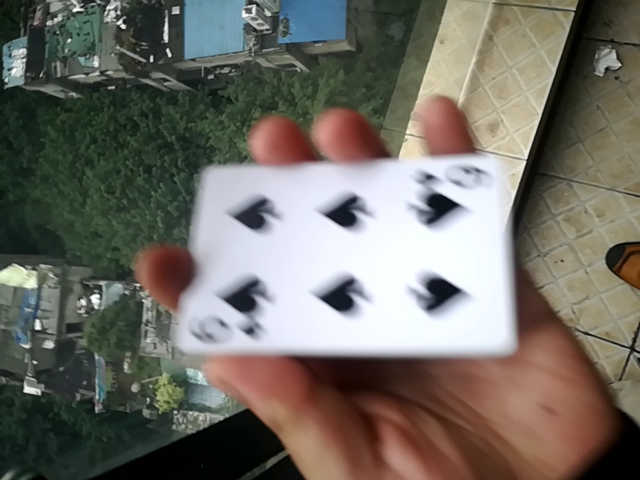ht 6: (162, 142, 516, 360)
